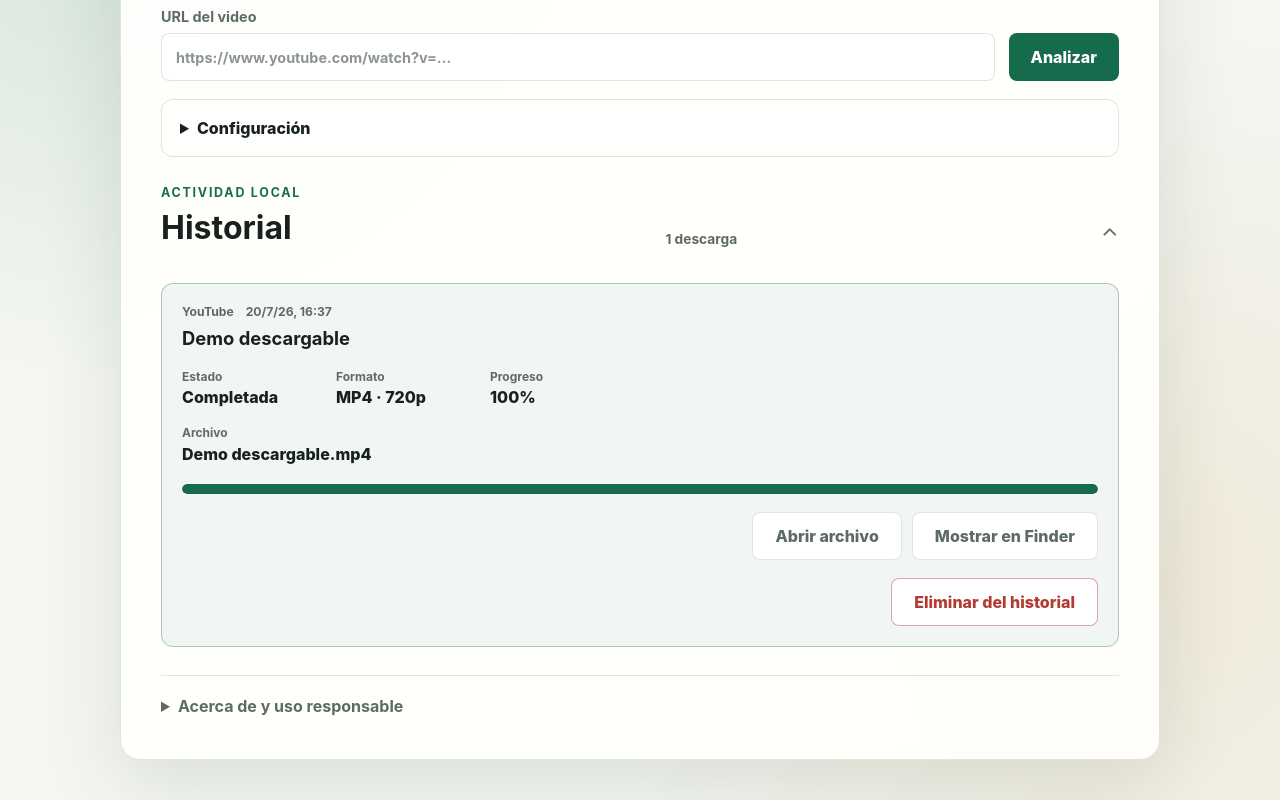
Test: App › keeps the card and shows an isolated deletion error
The width and height of the screenshot is (1280, 800).
(page scrolled)
Click the button "Eliminar del historial". click: {"x": 995, "y": 602}
box: x1=891 y1=578 x2=1098 y2=626
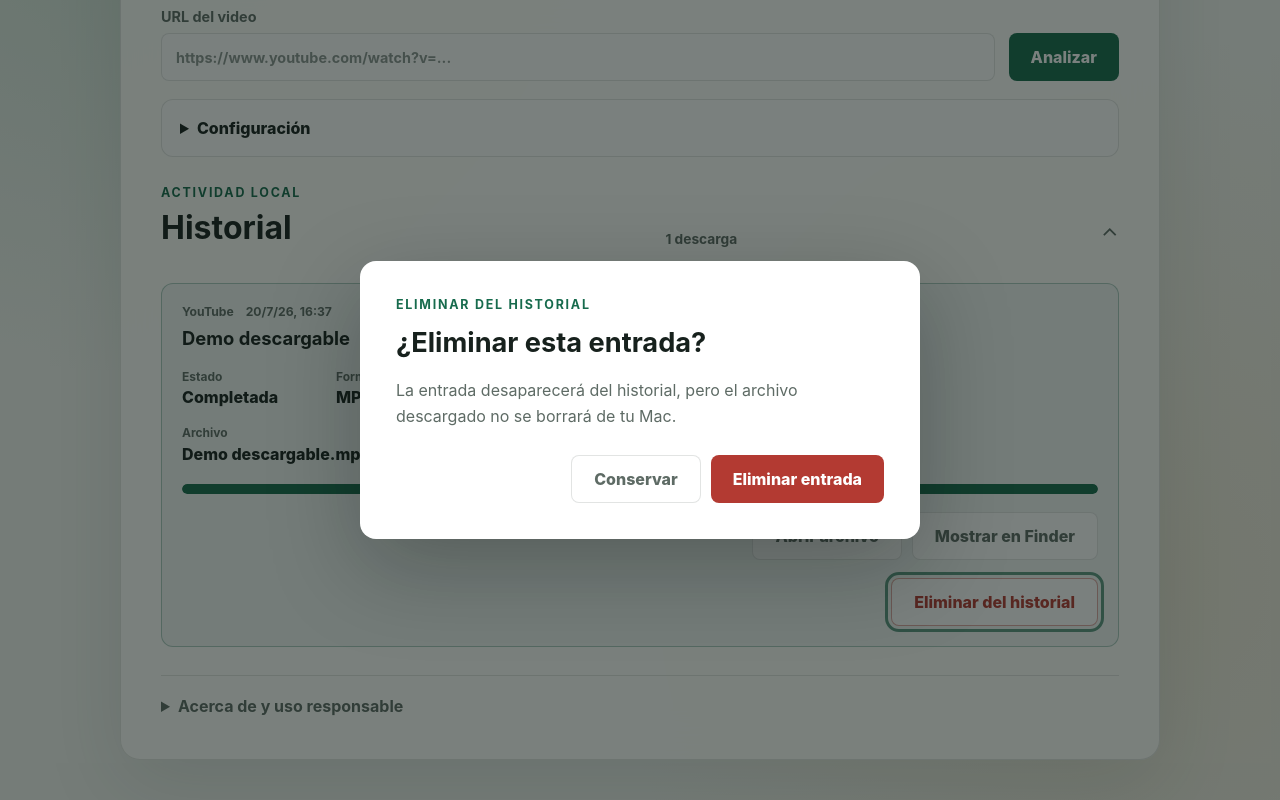
Click the button "Eliminar entrada". click: {"x": 797, "y": 479}
box: x1=711 y1=455 x2=884 y2=503
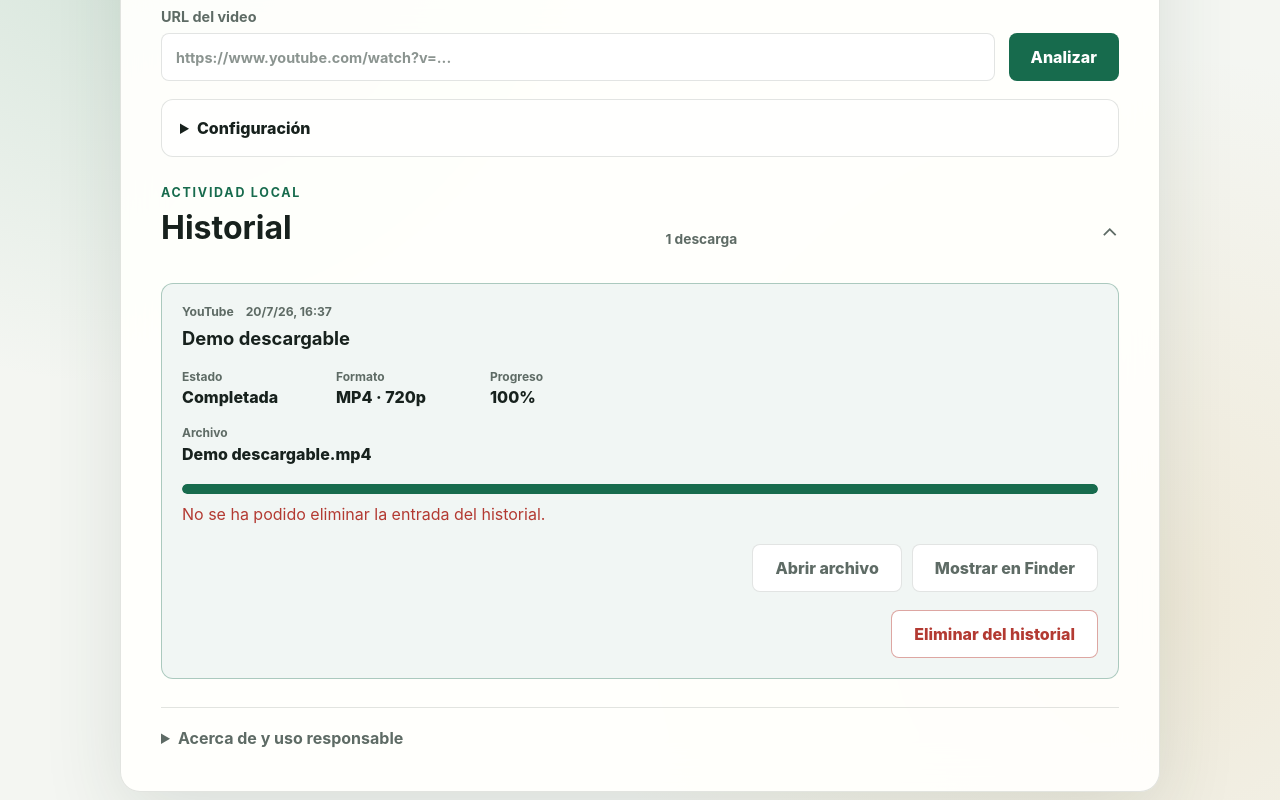
Expected: the heading "Demo descargable" is shown, x1=182 y1=327 x2=350 y2=349
Now the text "No se ha podido eliminar la entrada del historial." is shown, box x1=182 y1=504 x2=545 y2=524
